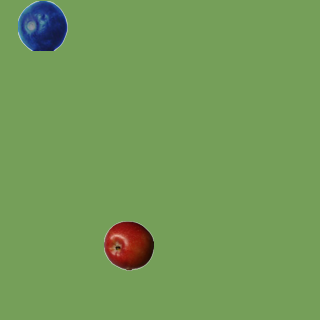Apple Braeburn: (103, 220, 153, 270)
Huckleberry: (17, 0, 67, 50)
